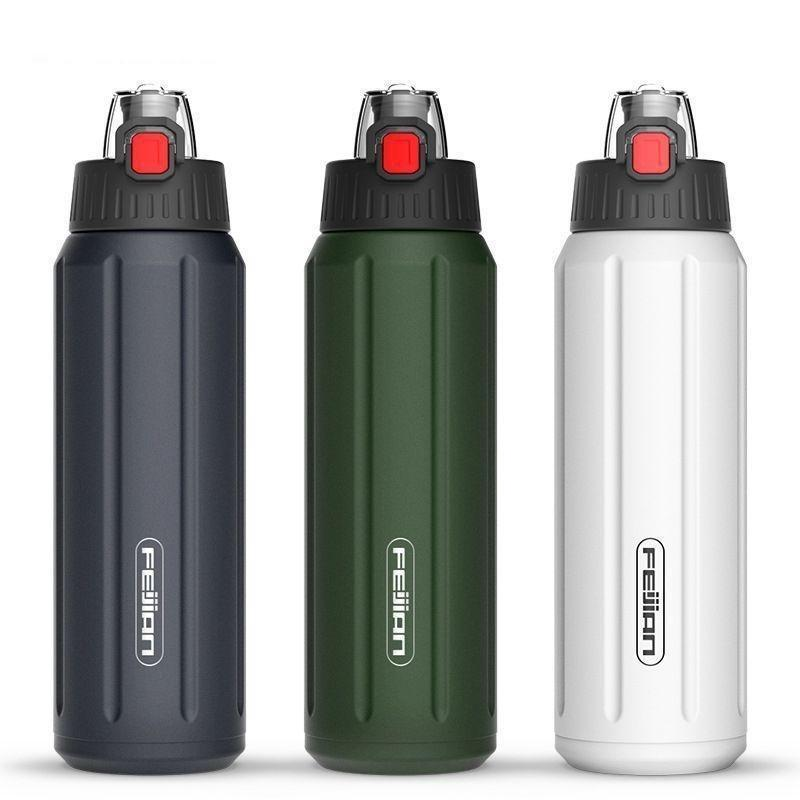gym bottle: (298, 84, 505, 776), (50, 80, 251, 783), (551, 80, 753, 776)
